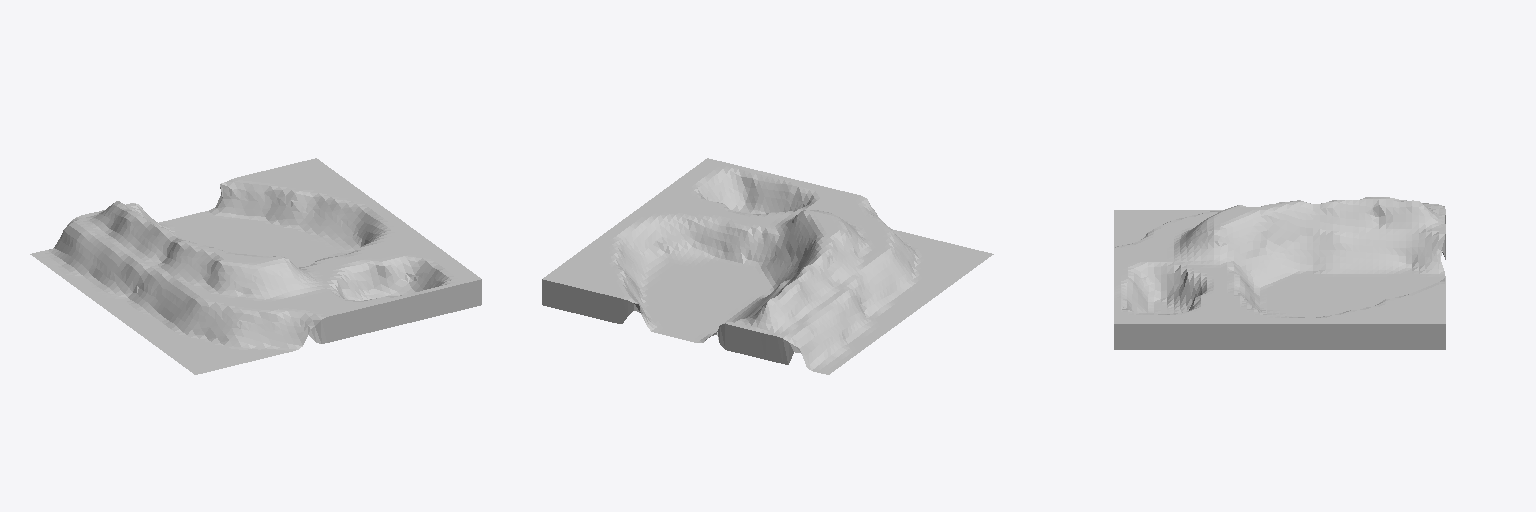
Rendered from ground-rounded-one-part.obj.
The picture shows the model from 3 angles: view 1: azimuth 30°, elevation 25°; view 2: azimuth 150°, elevation 25°; view 3: azimuth 270°, elevation 25°; orthographic projection.
Parts seen in each view (by area): view 1: Plane; view 2: Plane; view 3: Plane.
Part boxes in pixels (x1,y1,x2,y2): Plane: (30, 158, 481, 374); Plane: (542, 158, 993, 374); Plane: (1114, 197, 1445, 349).
Size of the model in its own units: 100 by 15.8 by 100.